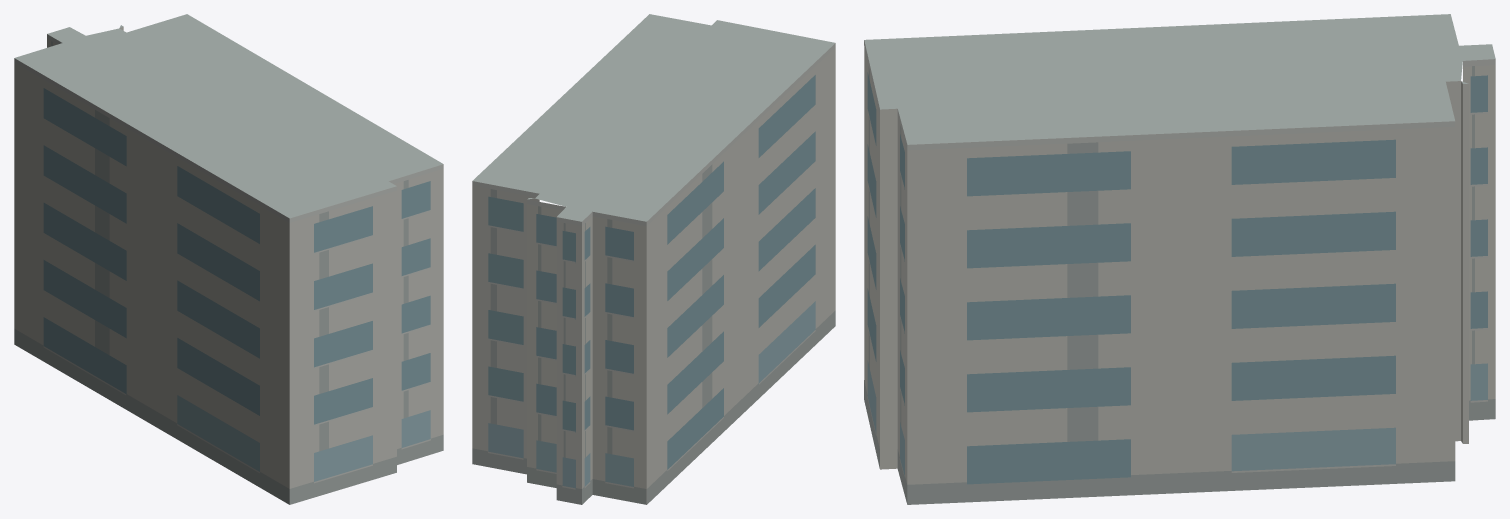
Rendered from survey-upis-32659578.glb.
The picture shows the model from 3 angles, left to right: view 1: azimuth 30°, elevation 25°; view 2: azimuth 150°, elevation 25°; view 3: azimuth 270°, elevation 25°; orthographic projection. The views are drawn at different scales.
Parts seen in each view (by area): view 1: survey-upis-32659578.tmp; view 2: survey-upis-32659578.tmp; view 3: survey-upis-32659578.tmp.
Boxes of the visible parts, x1,y1,x2,y2 form: survey-upis-32659578.tmp: (14, 14, 443, 504); survey-upis-32659578.tmp: (472, 14, 835, 504); survey-upis-32659578.tmp: (864, 14, 1495, 504).
Size of the model in its own units: 11.9 by 15.25 by 24.25.
